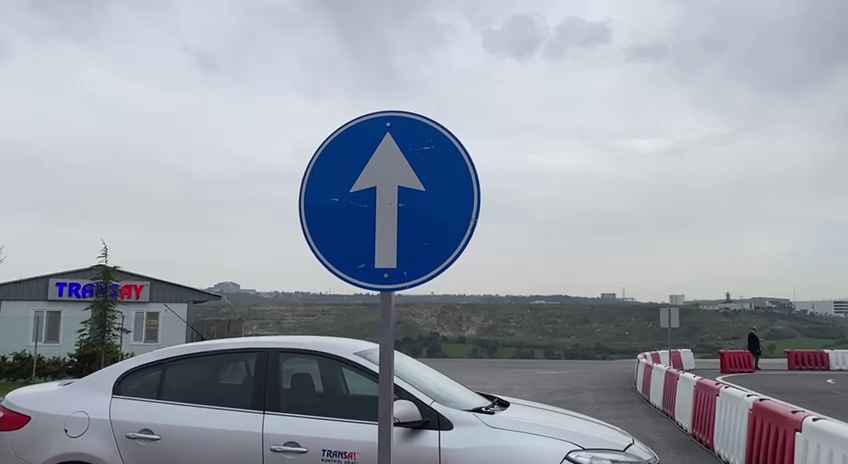forward: (292, 106, 484, 294)
